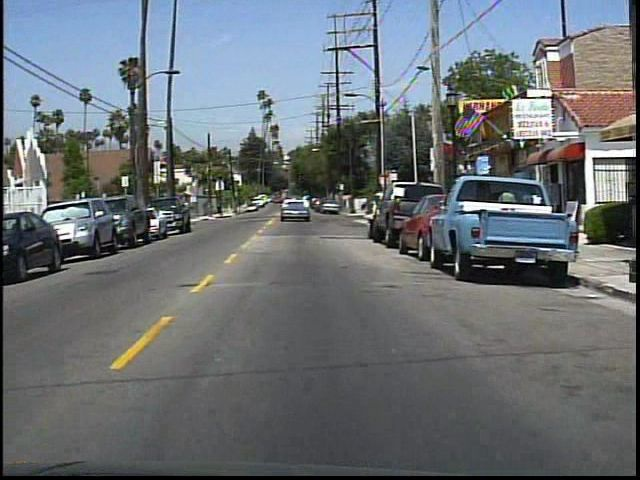person: (497, 181, 521, 234)
